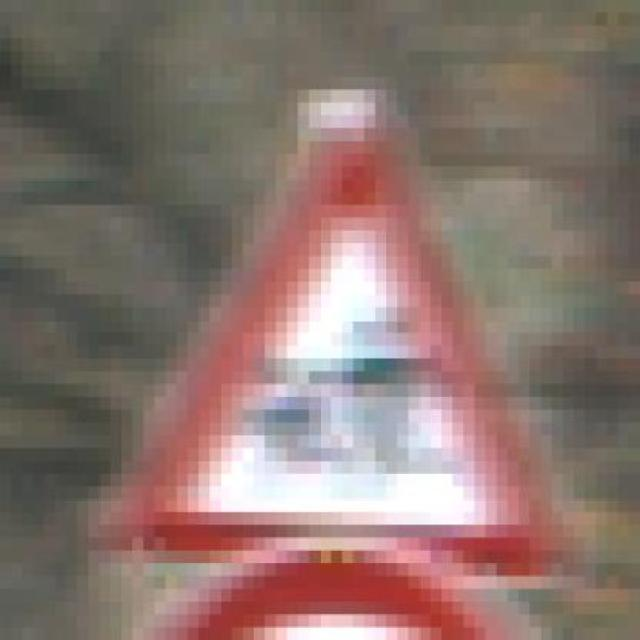Beware of children: (89, 64, 586, 602)
